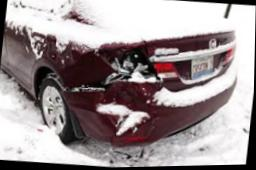Bumper: (90, 91, 164, 148)
Light: (98, 44, 174, 95)
